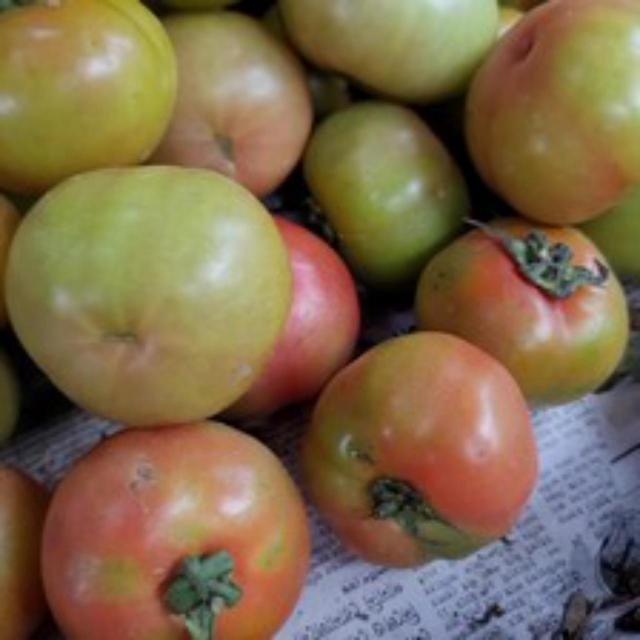tomato: (298, 334, 536, 583)
